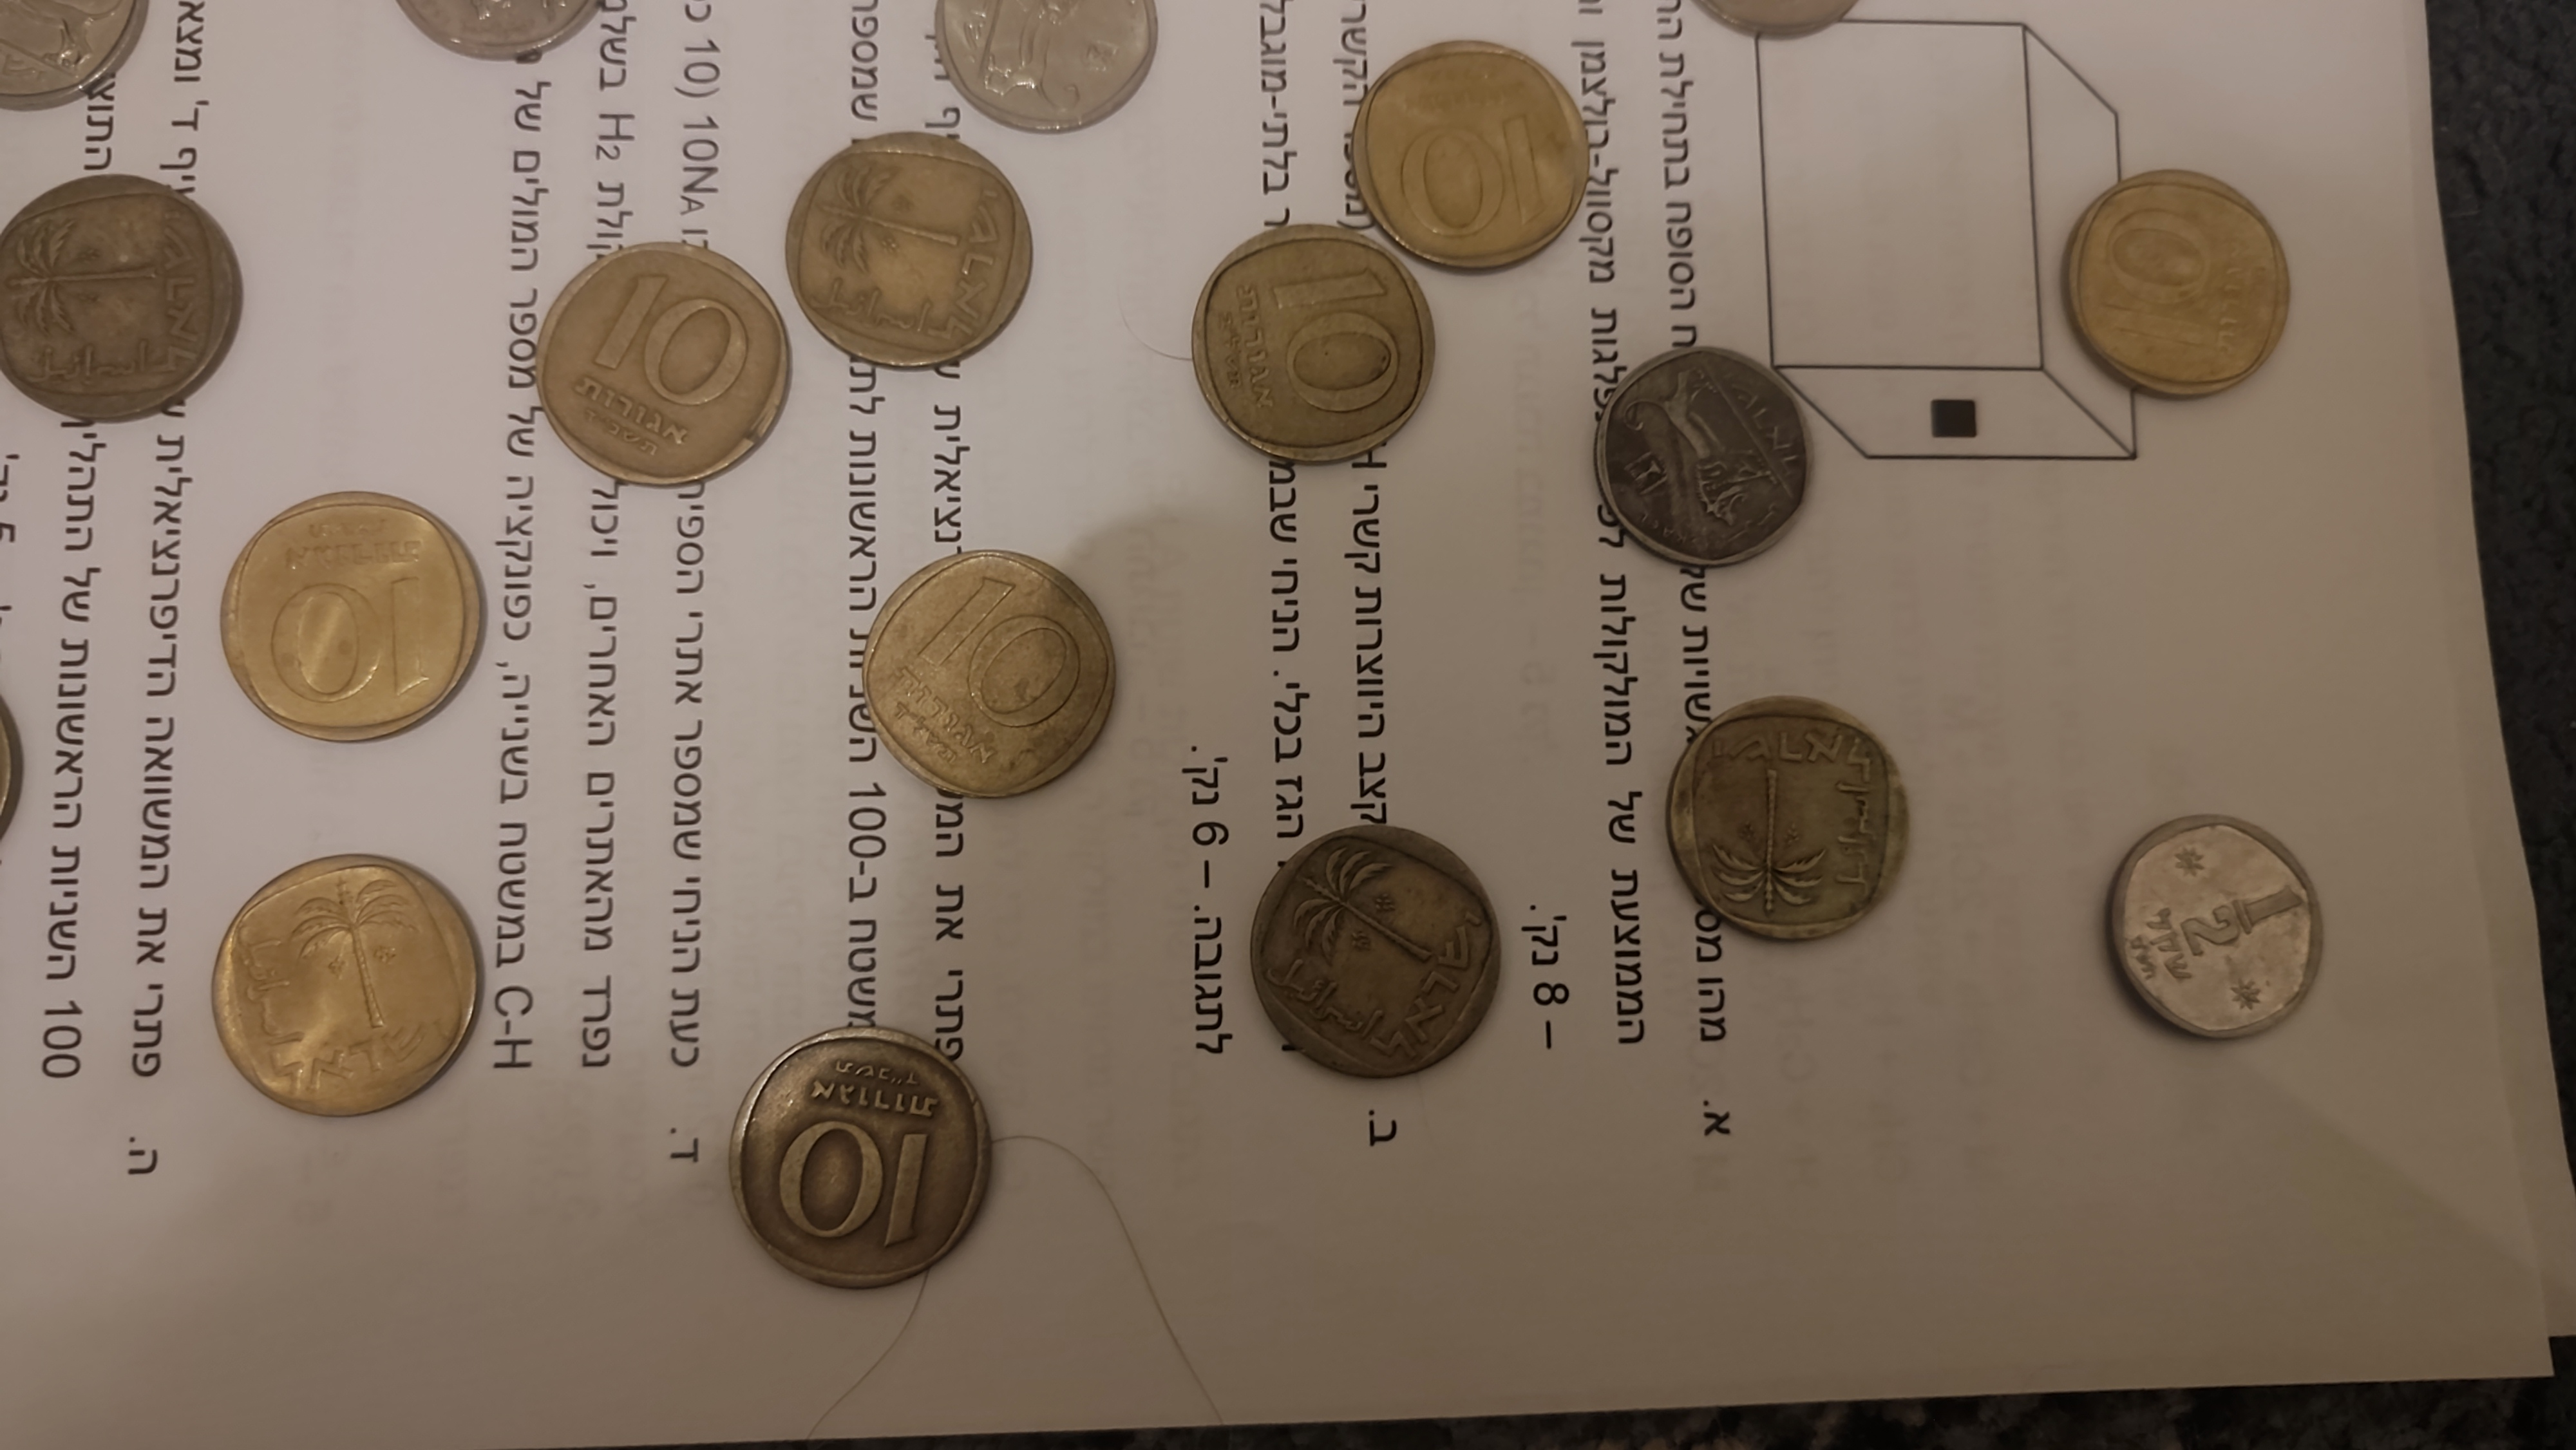1/2 old sheqel: (2100, 812, 2327, 1043), (1591, 345, 1819, 571), (931, 0, 1162, 138)
10 old agora brown: (202, 849, 492, 1130), (724, 1013, 1000, 1300), (1656, 683, 1920, 958), (525, 235, 803, 497), (1244, 812, 1507, 1086), (856, 543, 1122, 808), (778, 127, 1044, 387), (1178, 216, 1442, 474), (0, 168, 246, 430), (218, 488, 481, 730), (1343, 34, 1599, 278), (2054, 159, 2304, 408)
